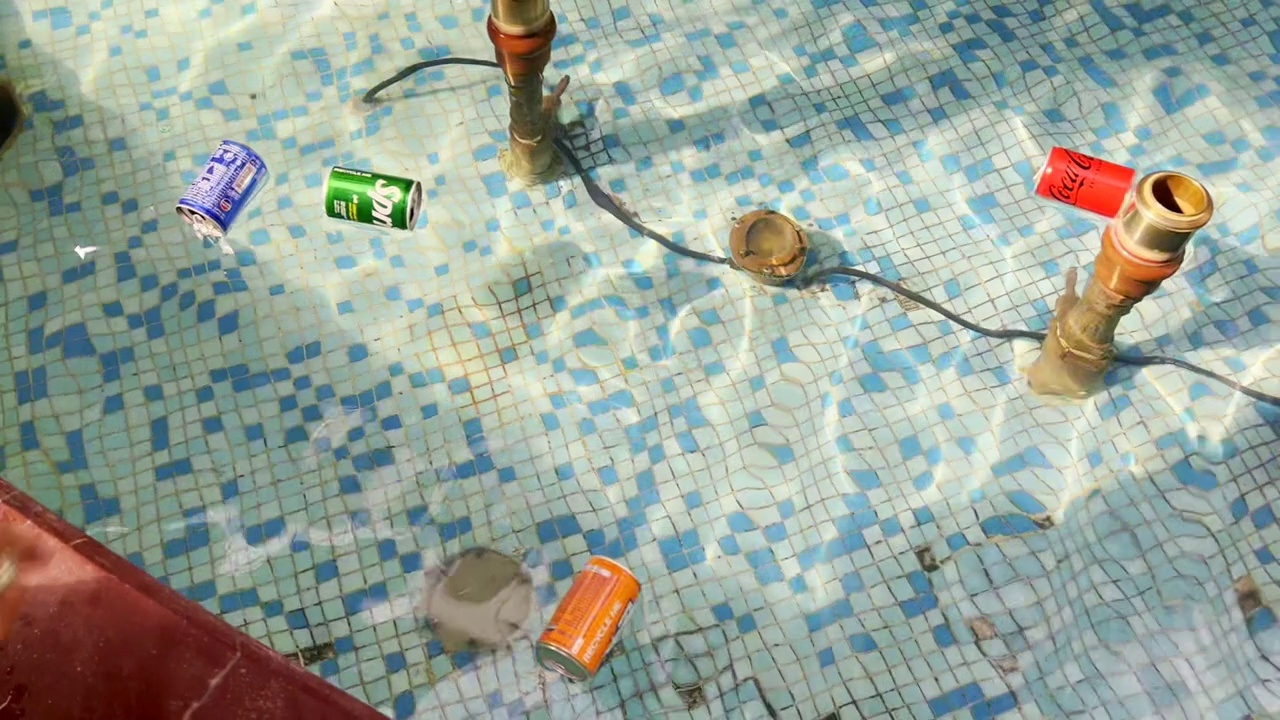debris: (527, 538, 646, 689), (171, 131, 275, 245), (314, 156, 432, 242), (1031, 134, 1138, 228)
